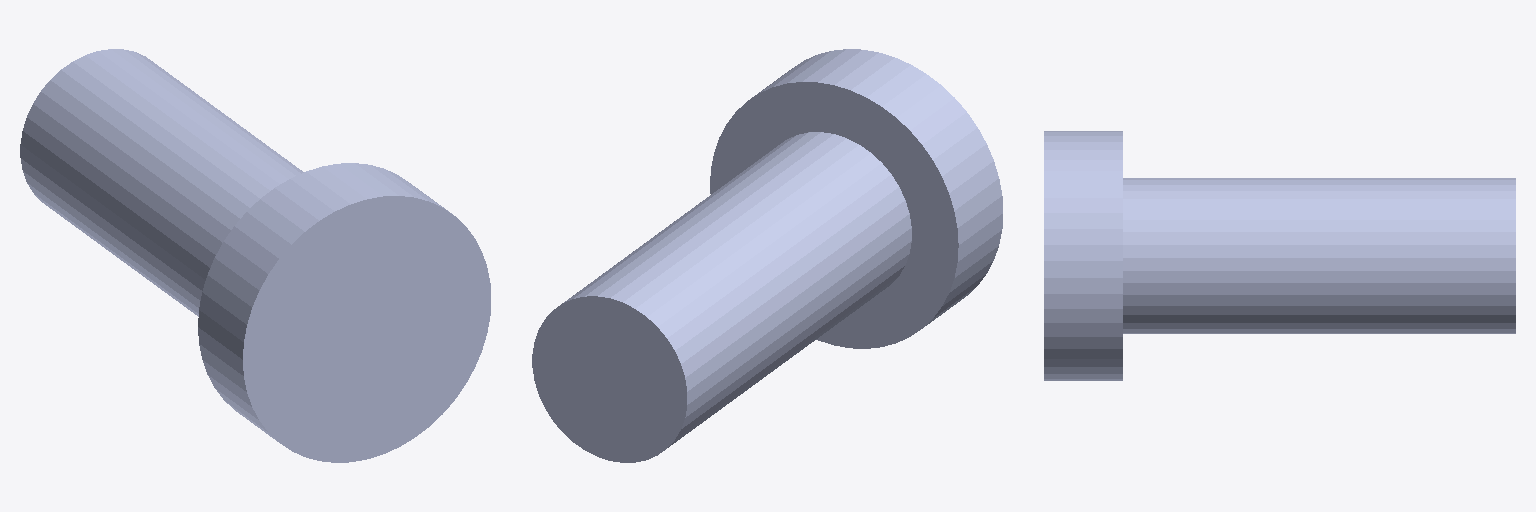
URDF robot description (boltmodel):
<?xml version="1.0" encoding="utf-8"?>
<!-- This URDF was automatically created by SolidWorks to URDF Exporter! Originally created by [author] ([email redacted]) 
     Commit Version: 1.6.0-1-g15f4949  Build Version: 1.6.7594.29634
     For more information, please see http://wiki.ros.org/sw_urdf_exporter -->
<robot
  name="boltmodel">
  <link  name="base_link">
    <inertial>
      <origin
        xyz="0 0.012421 0"
        rpy="0 0 0" />
      <mass
        value="0.0029688" />
      <inertia
        ixx="2.8232E-07"
        ixy="8.6096E-39"
        ixz="-2.7926E-40"
        iyy="5.6714E-08"
        iyz="-4.029E-24"
        izz="2.8232E-07" />
    </inertial>
    <visual>
      <origin
        xyz="0 0 0"
        rpy="0 0 0" />
      <geometry>
        <mesh
          filename="package://boltmodel/meshes/base_link_bolt.obj" />
      </geometry>
      <material
        name="">
        <color
          rgba="0.79216 0.81961 0.93333 1" />
      </material>
    </visual>
    <collision  >
      <origin
        xyz="0 0 0"
        rpy="0 0 0" />
      <geometry>
        <mesh
          filename="package://boltmodel/meshes/base_link_bolt.obj" />
      </geometry>
      <contact_coefficients mu="0" kp="1000" kd="1.0"/>
    </collision>
  </link>
</robot>

--- Facts derived from the render (not from the file) ---
3 views of the same robot in one strip: view 1: azimuth 30°, elevation 25°; view 2: azimuth 150°, elevation 25°; view 3: azimuth 270°, elevation 25° (orthographic).
Robot: boltmodel — 1 links, 0 joints (none); root link base_link; default pose: every joint at zero.
Visible links, largest first — view 1: base_link; view 2: base_link; view 3: base_link.
Link boxes in pixels (x1,y1,x2,y2): base_link: [20, 49, 490, 462]; base_link: [532, 49, 1002, 462]; base_link: [1044, 131, 1515, 380].
Size in the robot's own frame: 0.016 by 0.03 by 0.016 metres.
Meshes: 1 distinct files referenced, 1 mesh visuals loaded (1 OBJ).